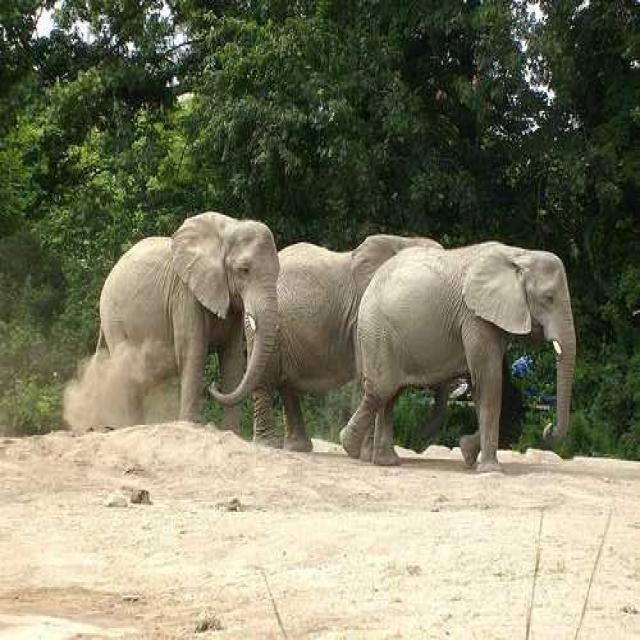Elephant: (207, 232, 461, 454), (338, 239, 576, 473), (95, 210, 280, 440)
